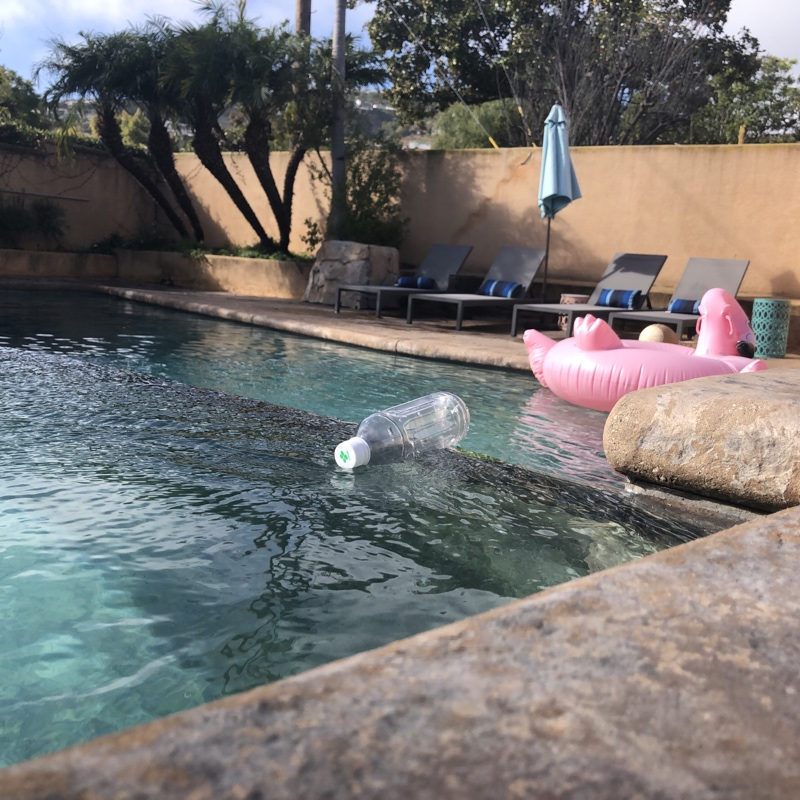Plastic Bottle: (333, 387, 473, 475)
